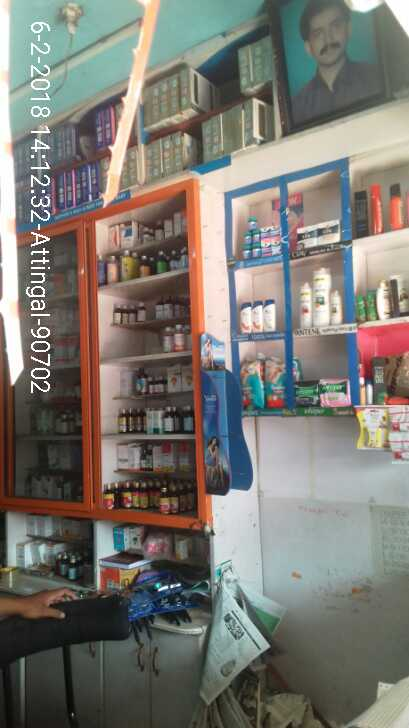vicks: (243, 210, 286, 261)
